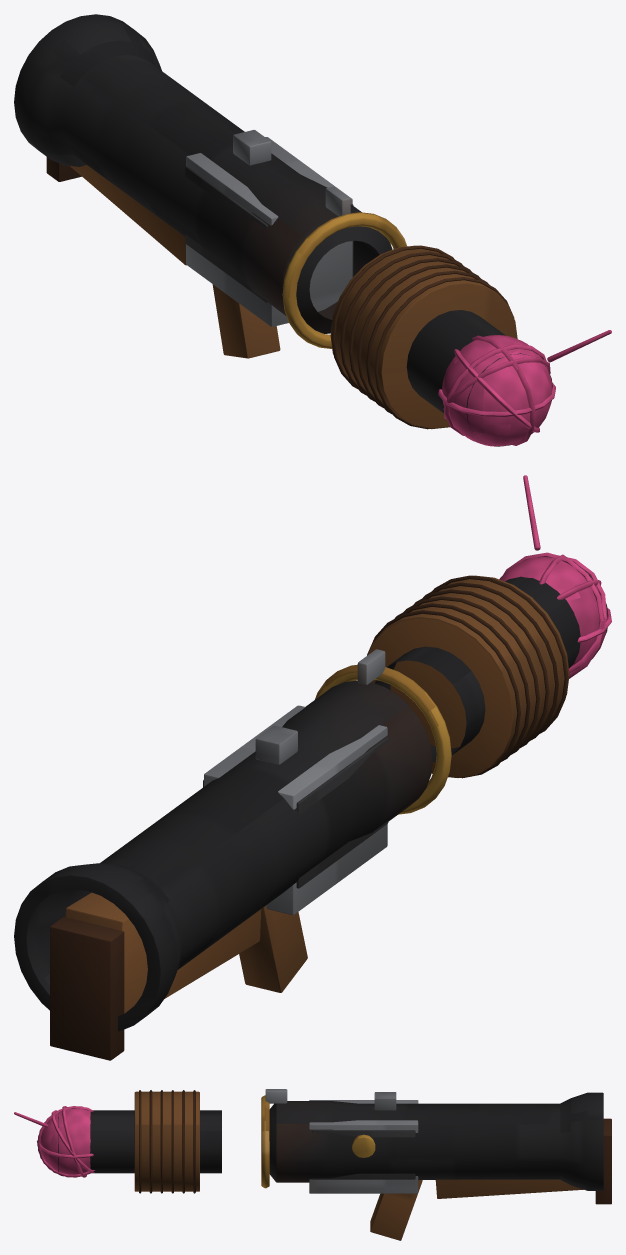
Rendered from weapon_yarn.glb.
The picture shows the model from 3 angles, top to bottom: view 1: azimuth 30°, elevation 25°; view 2: azimuth 150°, elevation 25°; view 3: azimuth 270°, elevation 25°; orthographic projection. The views are drawn at different scales.
Visible parts, largest first — view 1: weapon_yarn; view 2: weapon_yarn; view 3: weapon_yarn.
Boxes of the visible parts, bbox=[...] form: weapon_yarn: bbox=[14, 14, 611, 446]; weapon_yarn: bbox=[14, 475, 611, 1060]; weapon_yarn: bbox=[14, 1089, 611, 1240].
Size of the model in its own units: 0.1905 by 0.295 by 1.1.
8 materials, 8 textured.
